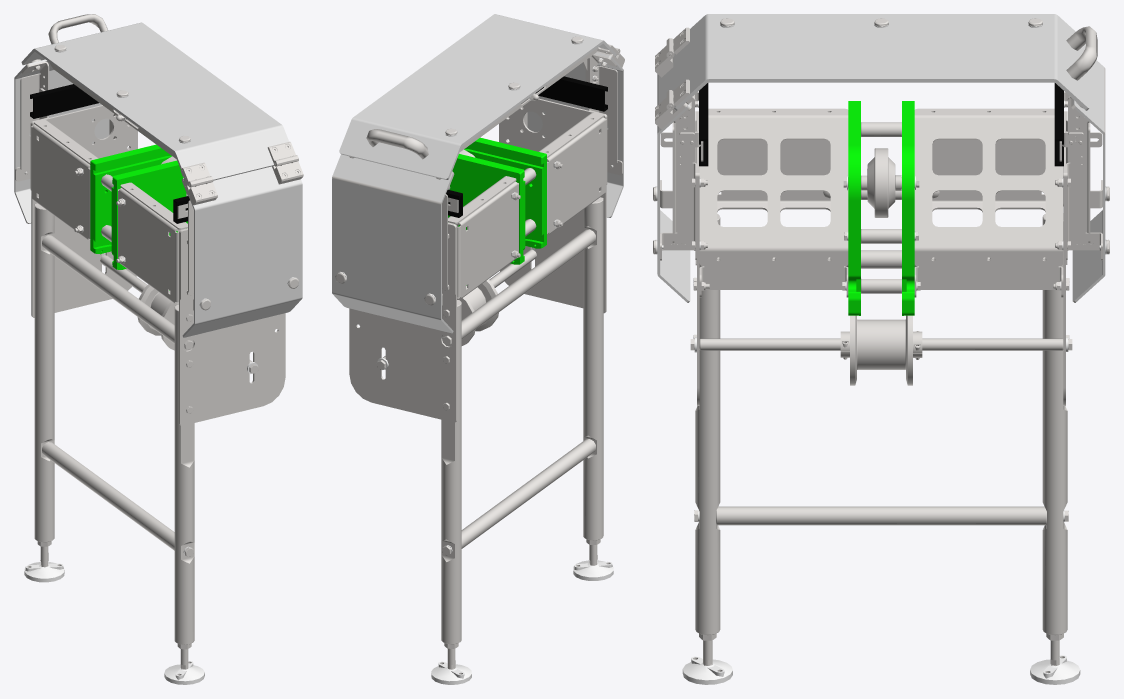
3 renders of one model, left to right at view 1: azimuth 30°, elevation 25°; view 2: azimuth 150°, elevation 25°; view 3: azimuth 270°, elevation 25°, orthographic. The views are drawn at different scales.
Parts seen in each view (by area): view 1: base, glass; view 2: base, glass; view 3: base, glass.
Part boxes in pixels (left/top/right/bottom): base: left=14, top=14, right=303, bottom=684; glass: left=14, top=22, right=302, bottom=337; base: left=332, top=36, right=624, bottom=684; glass: left=332, top=14, right=623, bottom=333; base: left=653, top=18, right=1109, bottom=684; glass: left=657, top=14, right=1105, bottom=302.
Bounding box in the file's own units: 0.267 × 1.16 × 0.726.
1 material, 1 textured.
